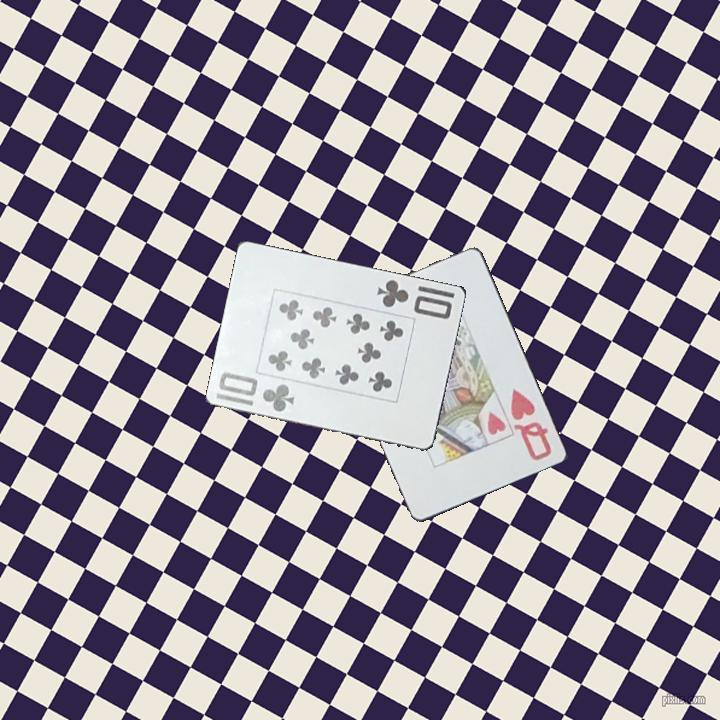Qh: (507, 385, 558, 466)
Tc: (213, 365, 298, 418), (373, 276, 456, 322)
